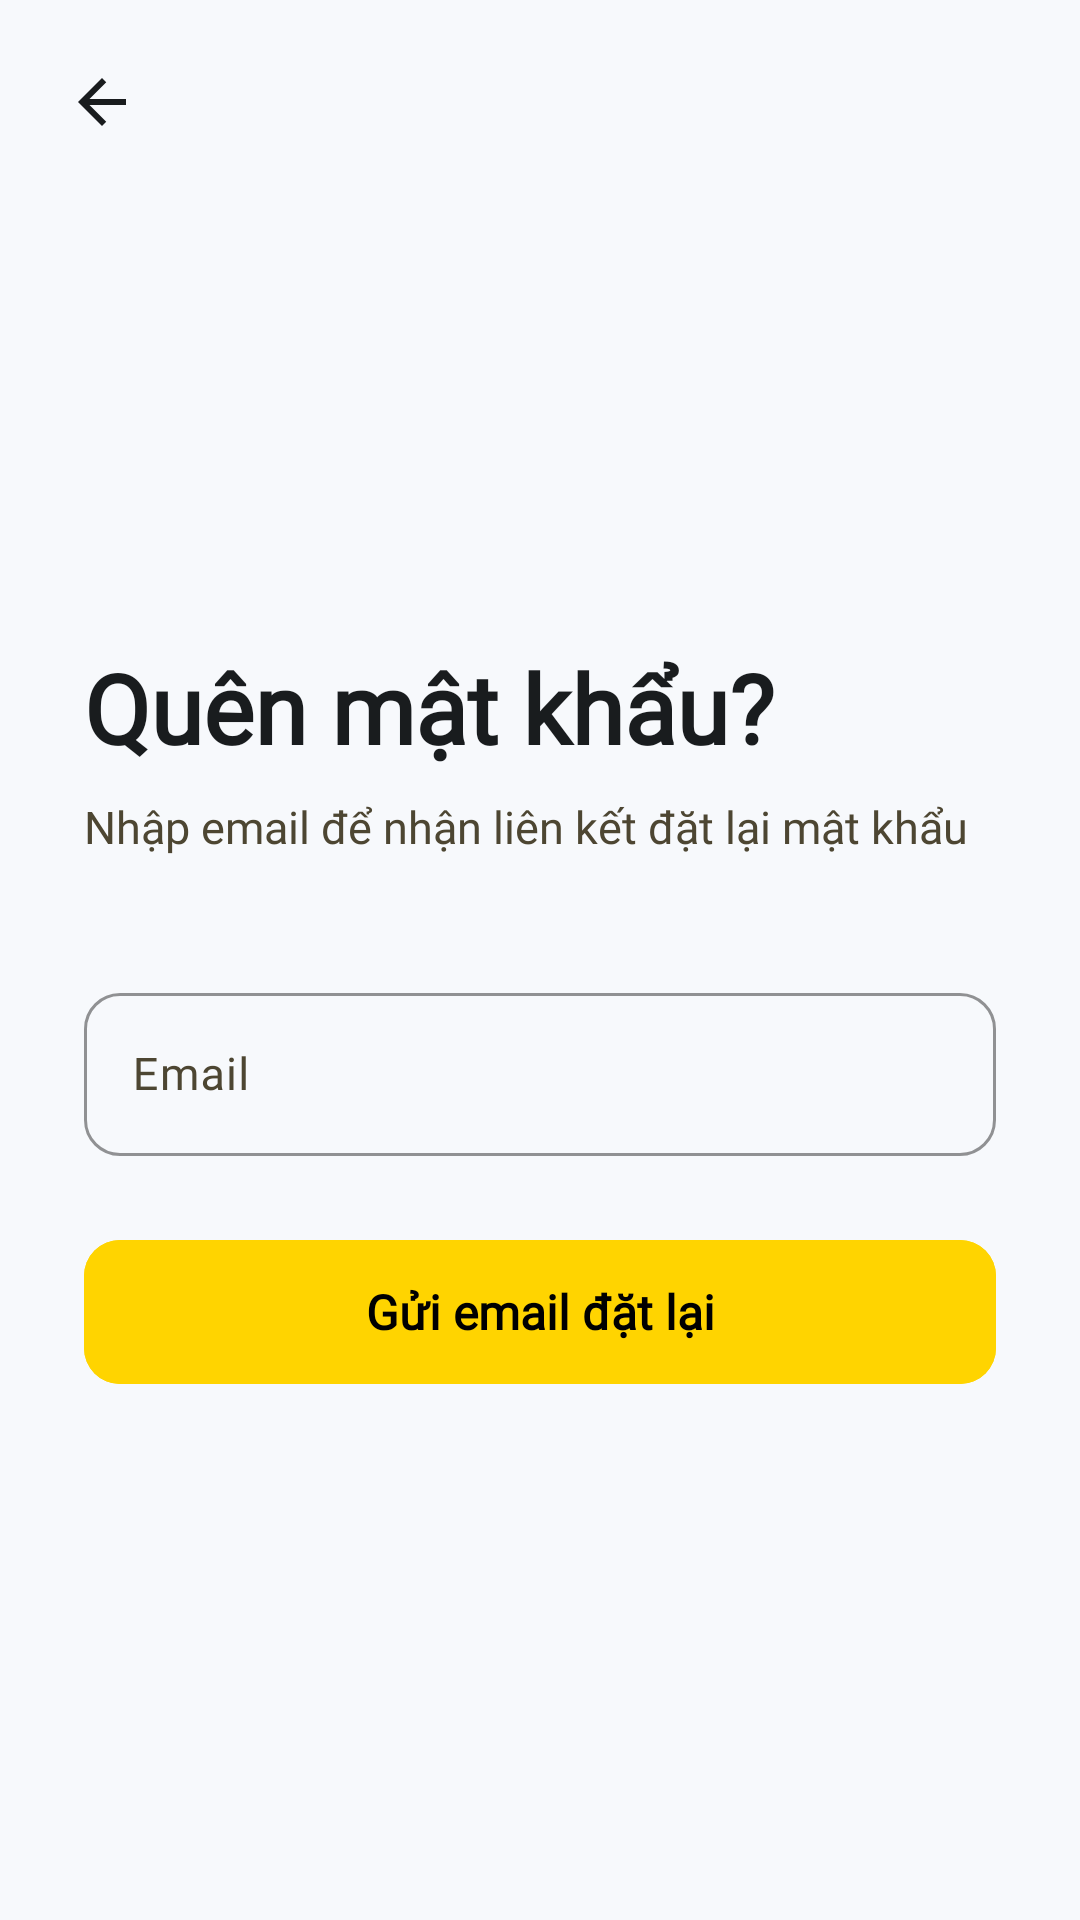

Screen size 1080px×1920px. Icon name, then its center in pixels as point (x, y):
Quay lại: point (102, 102)
